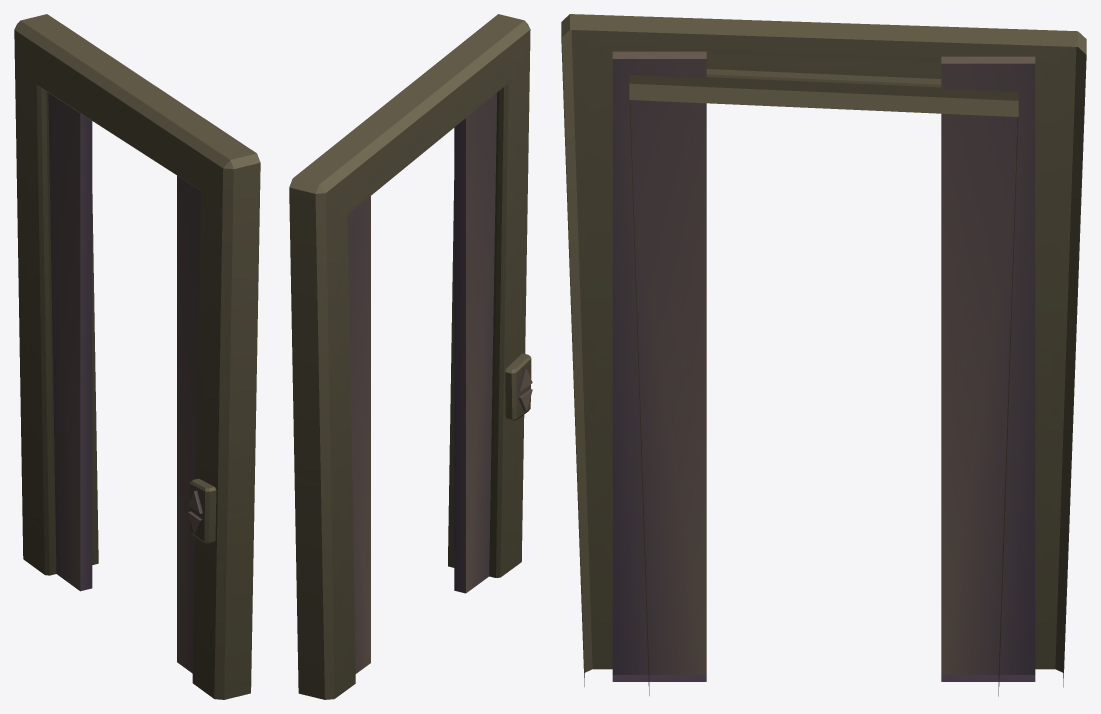
File: SM_EN_Level1_Liftopening.fbx
3 views of the same model, side by side, from view 1: azimuth 30°, elevation 25°; view 2: azimuth 150°, elevation 25°; view 3: azimuth 270°, elevation 25° (orthographic). The views are drawn at different scales.
Parts seen in each view (by area): view 1: SM_EN_Level1_Liftopening; view 2: SM_EN_Level1_Liftopening; view 3: SM_EN_Level1_Liftopening.
Boxes of the visible parts, x1,y1,x2,y2 form: SM_EN_Level1_Liftopening: [14, 14, 260, 699]; SM_EN_Level1_Liftopening: [289, 14, 532, 699]; SM_EN_Level1_Liftopening: [561, 14, 1086, 696].
Size of the model in its own units: 19.44 by 113 by 156.
